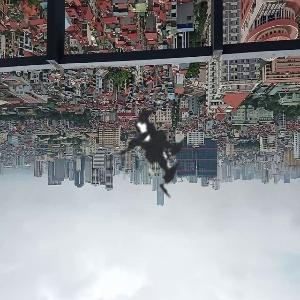drone: (25, 14, 278, 267)
